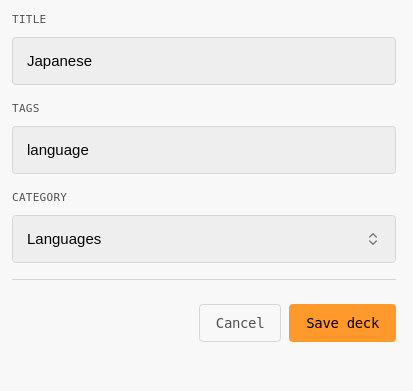
Test: DeckForm › keeps the edit form open and reports a deck update failure
Check: the field labelled "Title" holds "Japanese", box [12,36,396,85]
Check: the dropdown named "Category" reads "Languages", box [12,214,396,263]
What coordinates should you click on to do the following:
click the button "Save deck"
I would click on:
 (343, 323)
Its box is [289,304,396,342].
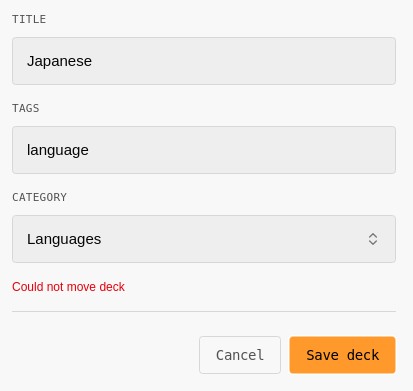
Check: the button "Save deck" is shown, box [289,336,396,374]
Check: the message reads "Could not move deck", box [12,280,125,294]
